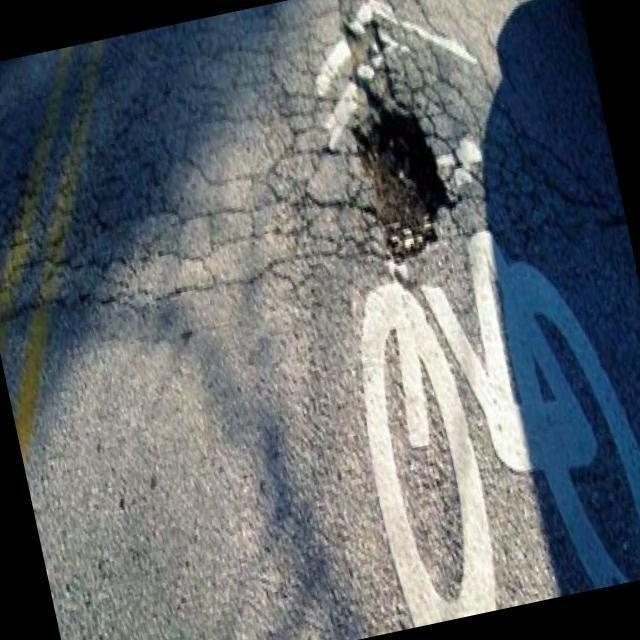pothole: (346, 90, 468, 256)
